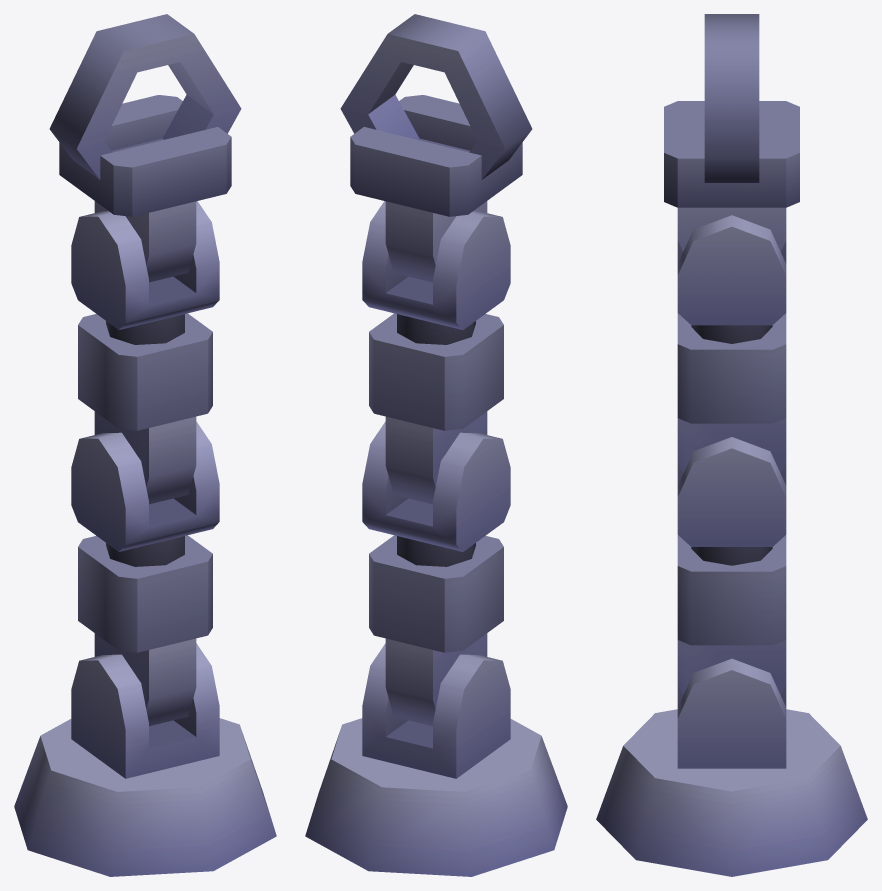
Rendered from robot-arm.glb.
The picture shows the model from 3 angles, left to right: view 1: azimuth 30°, elevation 25°; view 2: azimuth 150°, elevation 25°; view 3: azimuth 270°, elevation 25°; orthographic projection.
Parts seen in each view (by area): view 1: robot-arm-a; view 2: robot-arm-a; view 3: robot-arm-a.
Part boxes in pixels (x1,y1,x2,y2): robot-arm-a: [14, 14, 276, 876]; robot-arm-a: [305, 14, 567, 876]; robot-arm-a: [596, 14, 867, 876].
Size of the model in its own units: 1 by 3.2 by 1.
Materials: 1 (1 with a texture image).
